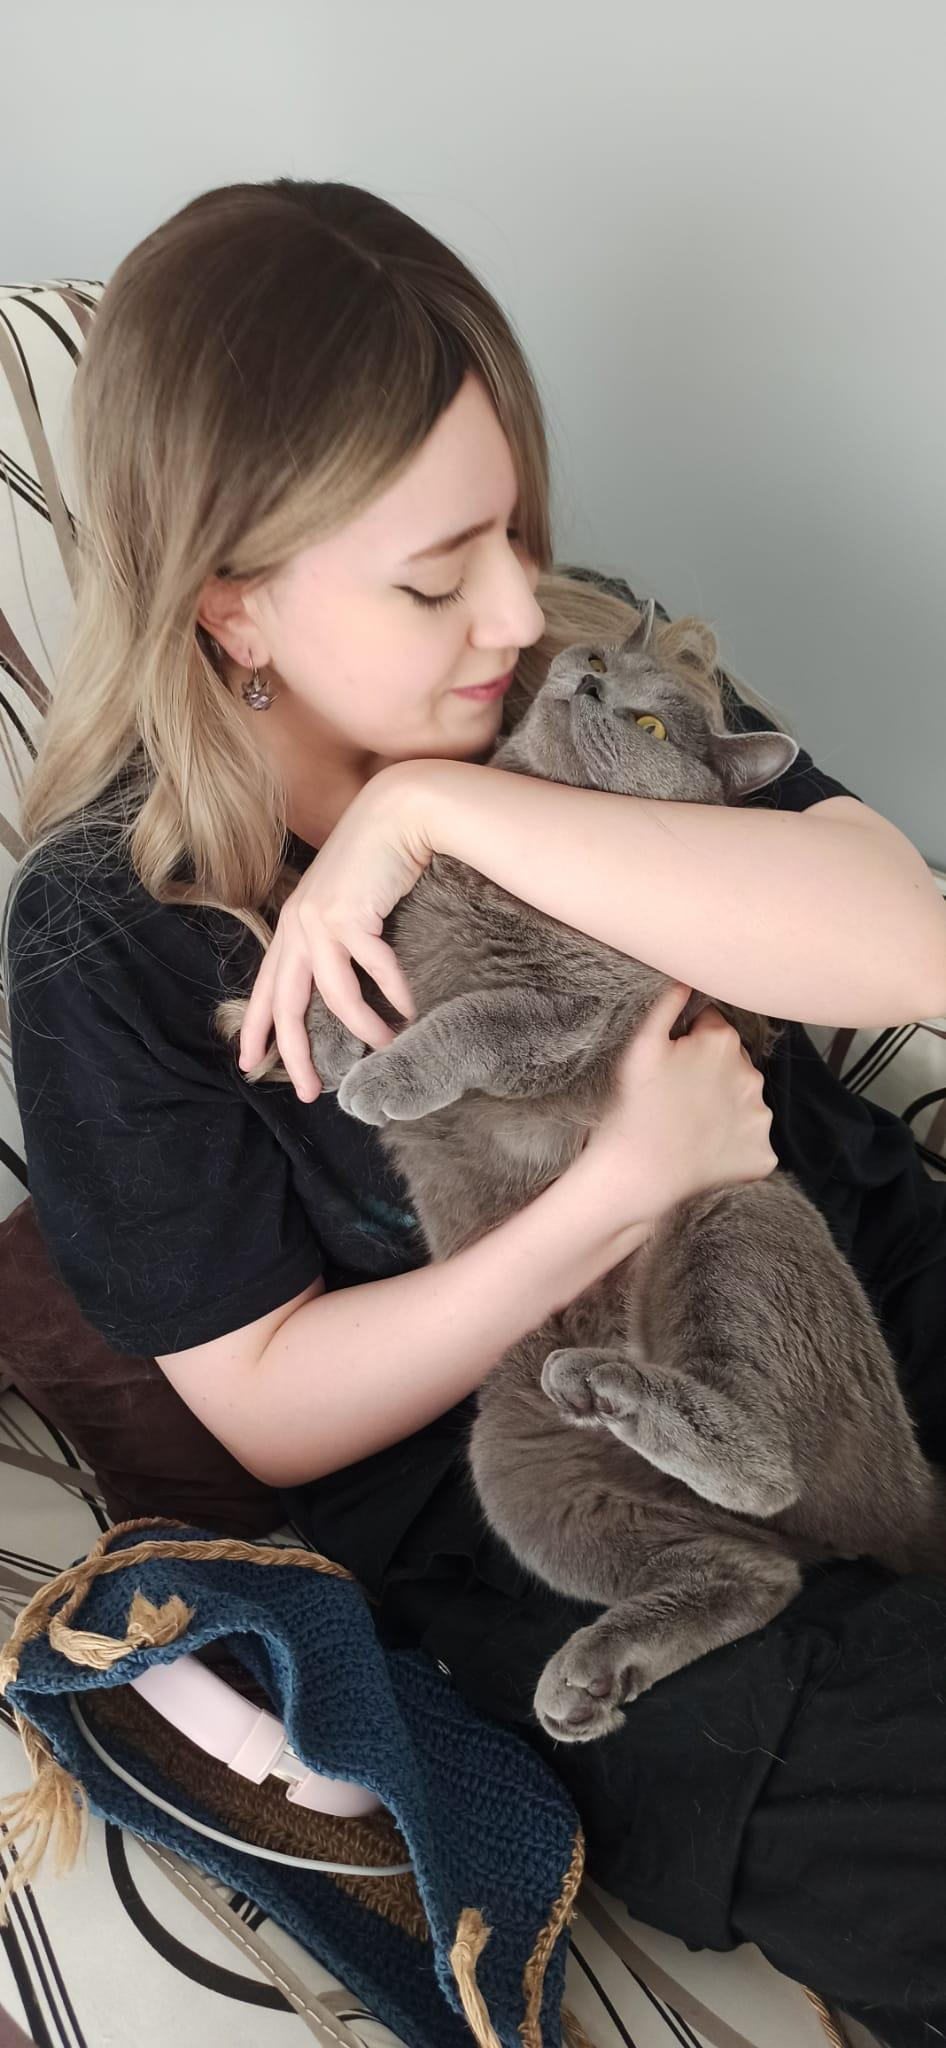kedo: (256, 606, 946, 1740)
